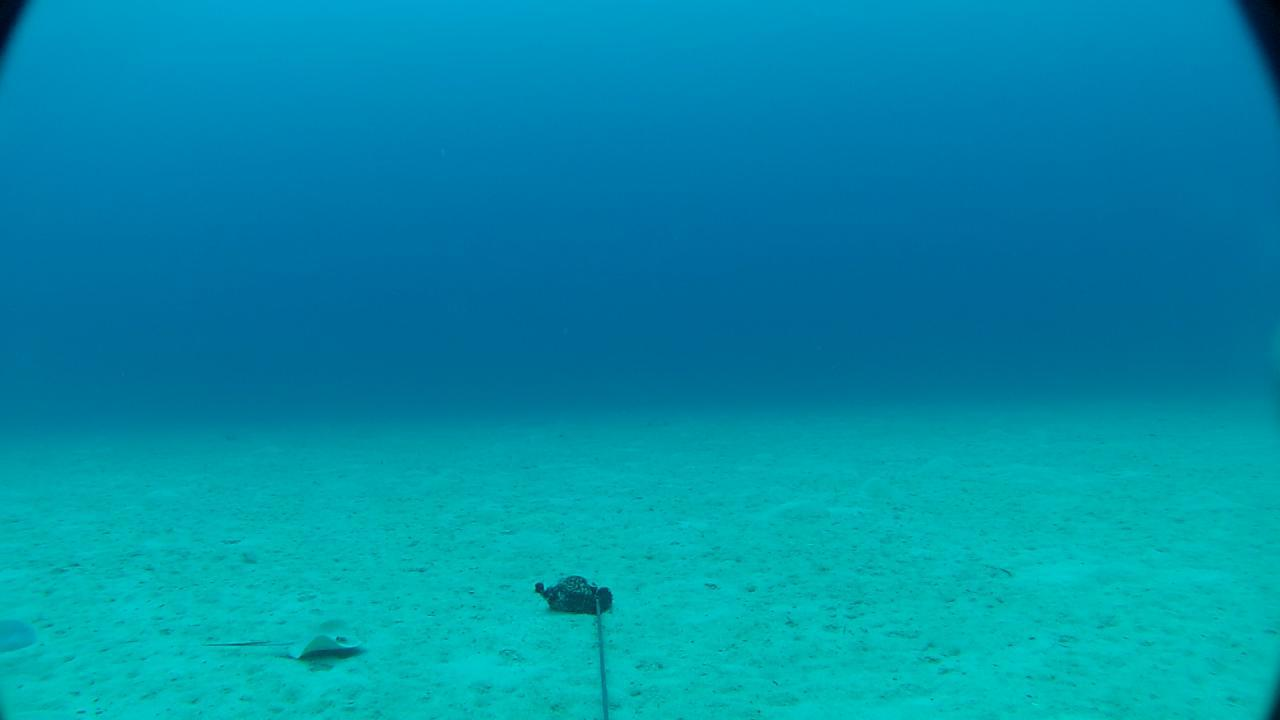dasyatis: (196, 616, 364, 660)
